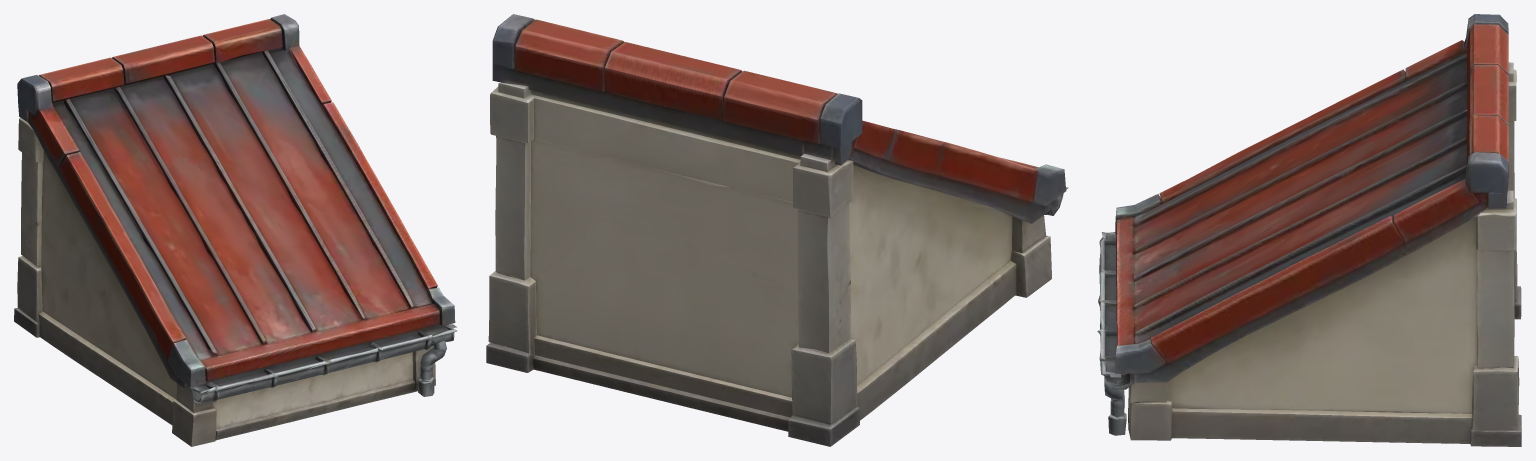
The model's file is m2SlopedRoofI.glb.
3 renders of one model, left to right at view 1: azimuth 30°, elevation 25°; view 2: azimuth 150°, elevation 25°; view 3: azimuth 270°, elevation 25°, orthographic. The views are drawn at different scales.
Parts seen in each view (by area): view 1: model; view 2: model; view 3: model.
Part boxes in pixels (x1,y1,x2,y2): model: (14,14,457,446); model: (486,14,1068,446); model: (1097,14,1521,446).
Size of the model in its own units: 1.57 by 1.42 by 1.9.
Materials: 1 (1 with a texture image).
